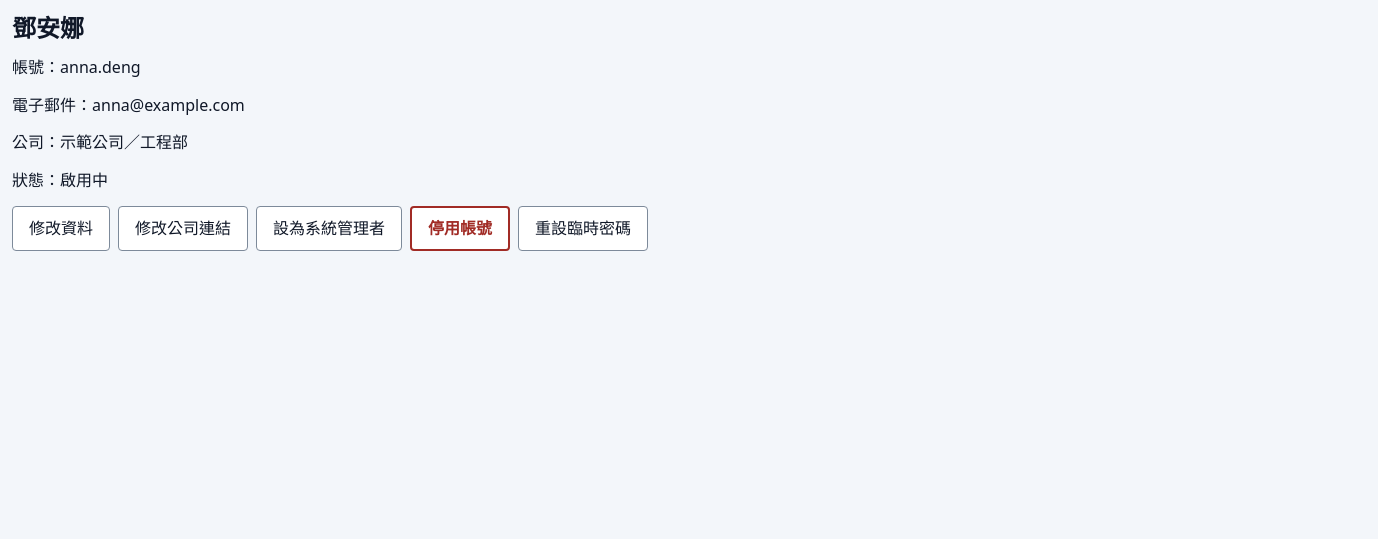
Scenario: UsersPage 帳號詳情 › deactivation uses the name and shows a success notice
Expected: the heading "鄧安娜" is shown, [12,11,84,44]
Click the button "停用帳號".
click(460, 228)  # box [410,206,510,251]
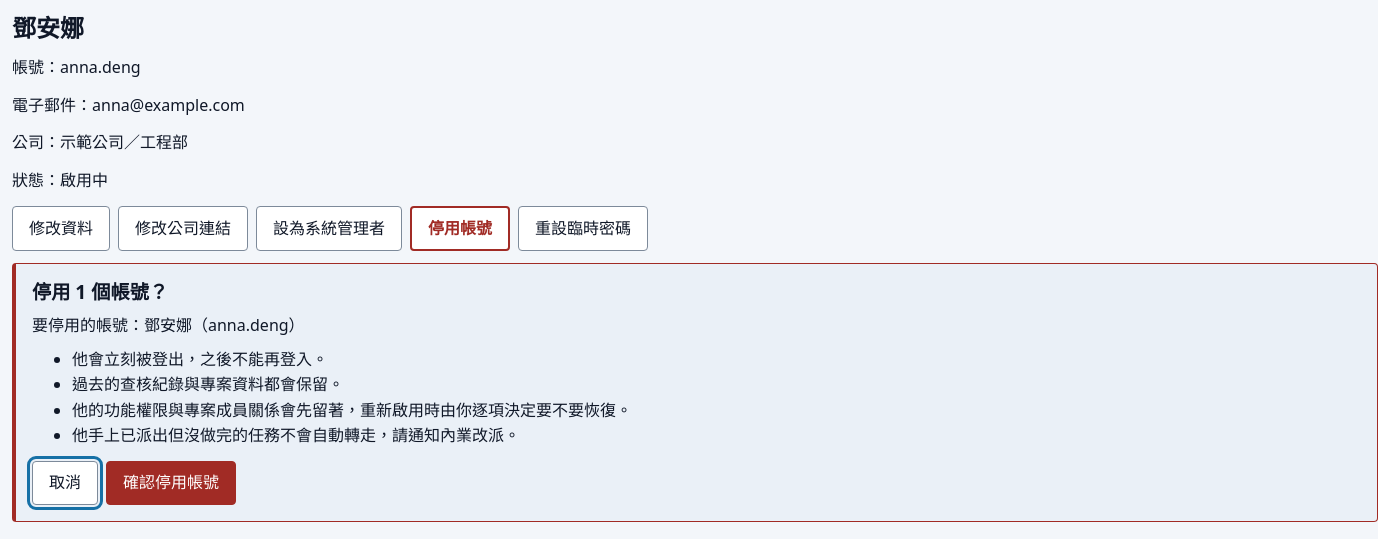
Now the element named "操作確認" shows "他的功能權限與專案成員關係會先留著，重新啟用時由你逐項決定要不要恢復。", box [72,399,632,421]
Now the button "確認停用帳號" is enabled
Click the button "確認停用帳號".
click(171, 483)  # box [106,461,236,505]
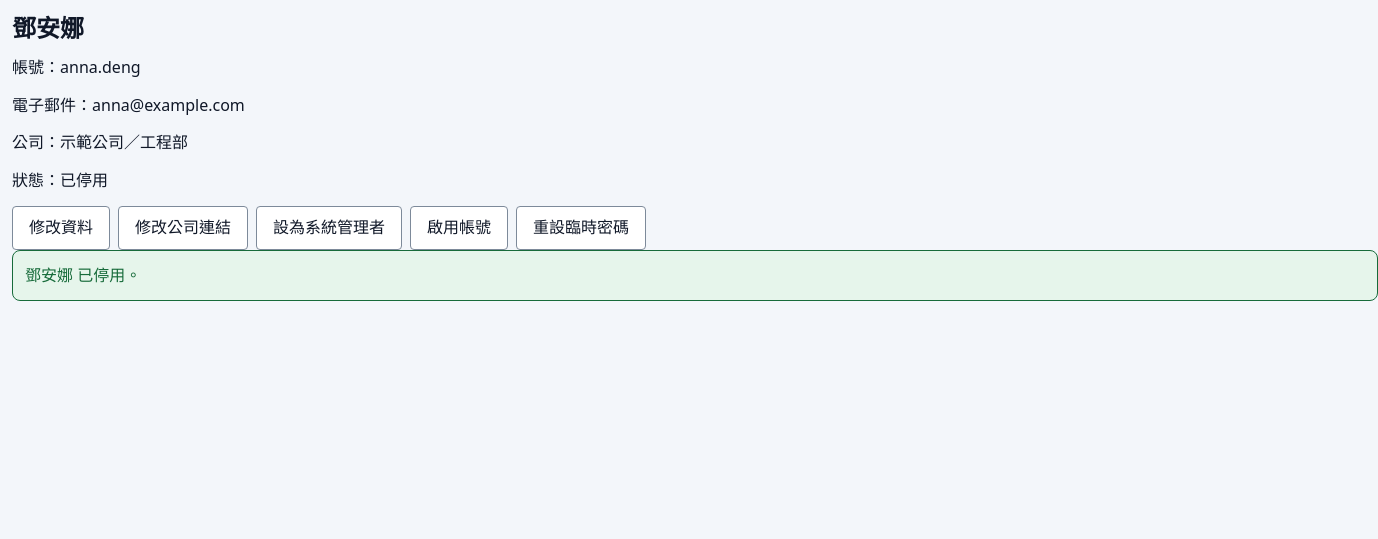
Now the message reads "鄧安娜 已停用。", box [25,264,141,286]
